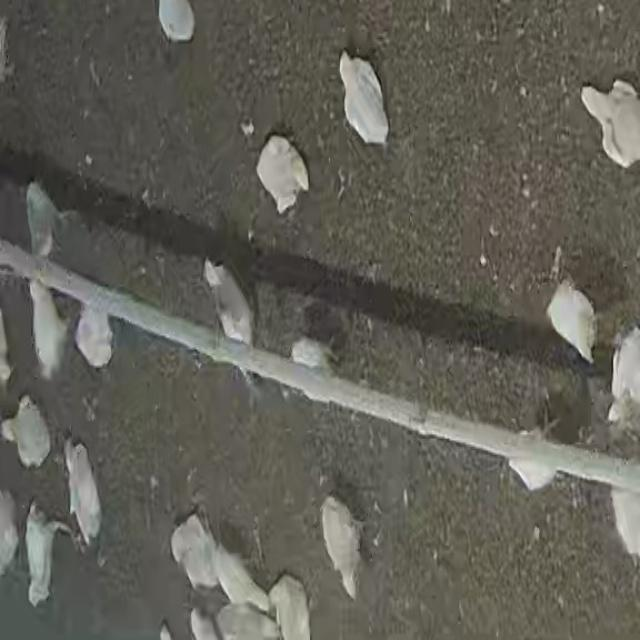chicken: (336, 46, 396, 151), (20, 503, 74, 609), (544, 281, 604, 364), (204, 256, 254, 351), (26, 276, 68, 382), (321, 496, 363, 600), (206, 546, 274, 610), (256, 139, 312, 216), (166, 514, 222, 585), (66, 440, 102, 550), (2, 397, 50, 472), (23, 183, 67, 264), (74, 302, 115, 370), (269, 576, 312, 638)
